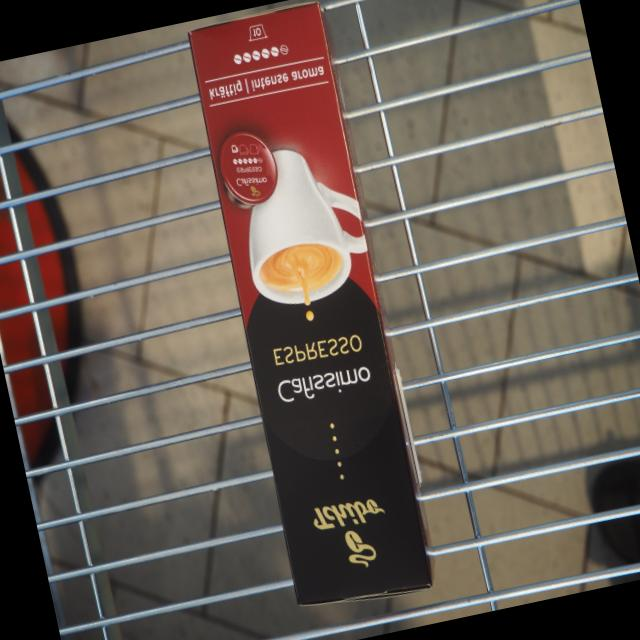Simo Es Kraft: (182, 0, 439, 611)
